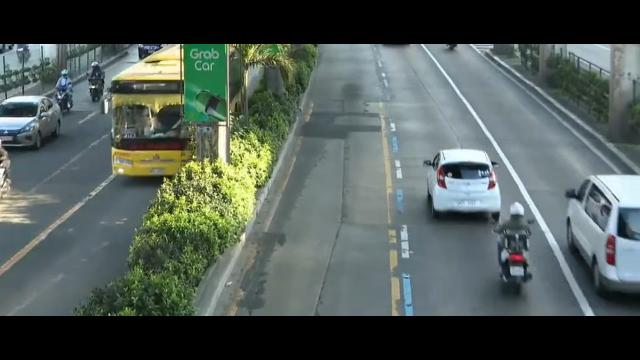bus: (104, 40, 195, 185)
car: (425, 148, 507, 218), (0, 95, 59, 157)
motorcycle: (492, 202, 539, 293), (86, 59, 110, 105), (56, 69, 76, 117)
van: (567, 164, 640, 296)
